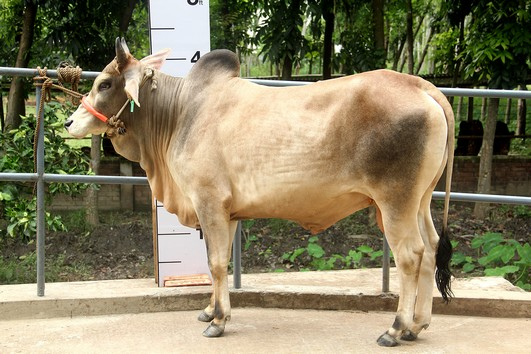cow: (61, 31, 461, 350)
